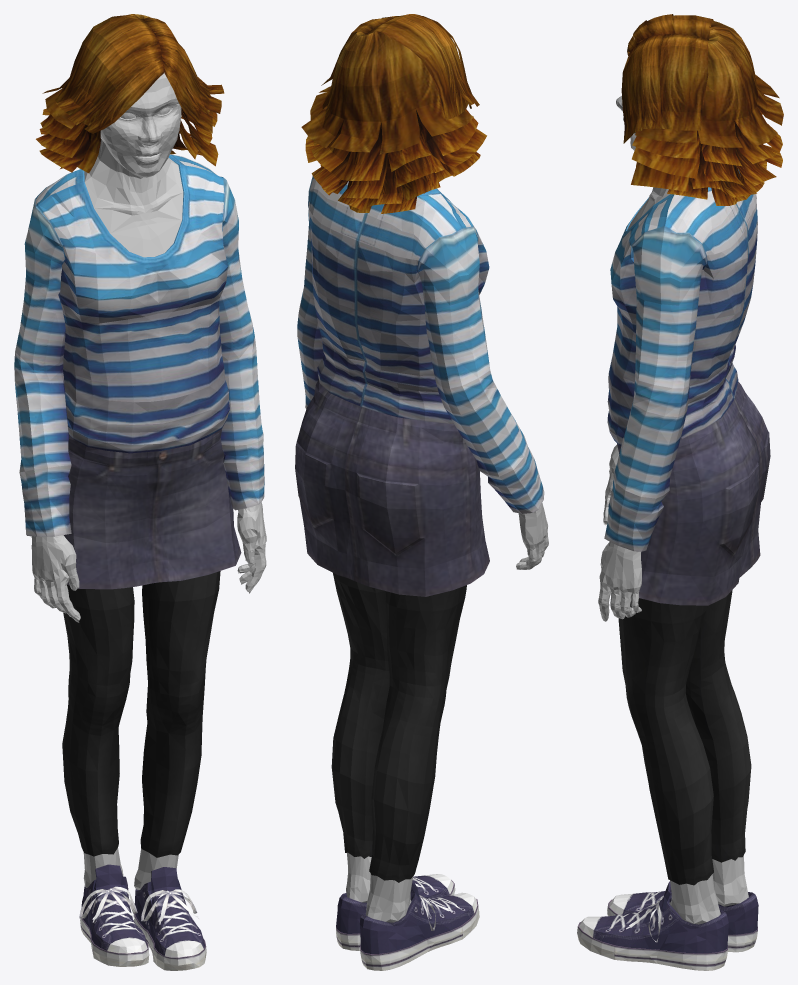
Rendered from girlStanding.obj.
3 renders of one model, left to right at view 1: azimuth 30°, elevation 25°; view 2: azimuth 150°, elevation 25°; view 3: azimuth 270°, elevation 25°, orthographic.
Visible parts, largest first — view 1: RL_Upper.001, RL_Lower.001, RL_HairMesh.001, RL_Shoes.001, RL_Hands.001, RL_Face.001; view 2: RL_Lower.001, RL_Upper.001, RL_HairMesh.001, RL_Shoes.001, RL_Hands.001; view 3: RL_Lower.001, RL_Upper.001, RL_HairMesh.001, RL_Shoes.001, RL_Hands.001.
Boxes of the visible parts, <box> form: RL_Upper.001: <box>14,139,264,536</box>; RL_Lower.001: <box>62,428,241,889</box>; RL_HairMesh.001: <box>36,14,224,173</box>; RL_Shoes.001: <box>79,864,206,970</box>; RL_Hands.001: <box>31,502,266,622</box>; RL_Face.001: <box>100,72,181,177</box>; RL_Lower.001: <box>295,379,489,922</box>; RL_Upper.001: <box>297,176,544,513</box>; RL_HairMesh.001: <box>301,14,486,213</box>; RL_Shoes.001: <box>336,874,479,970</box>; RL_Hands.001: <box>516,503,548,569</box>; RL_Lower.001: <box>617,381,770,924</box>; RL_Upper.001: <box>604,169,757,551</box>; RL_HairMesh.001: <box>621,14,783,205</box>; RL_Shoes.001: <box>577,881,758,970</box>; RL_Hands.001: <box>598,444,641,621</box>.
Bounding box in the file's own units: 41.04 × 156 × 31.51.
